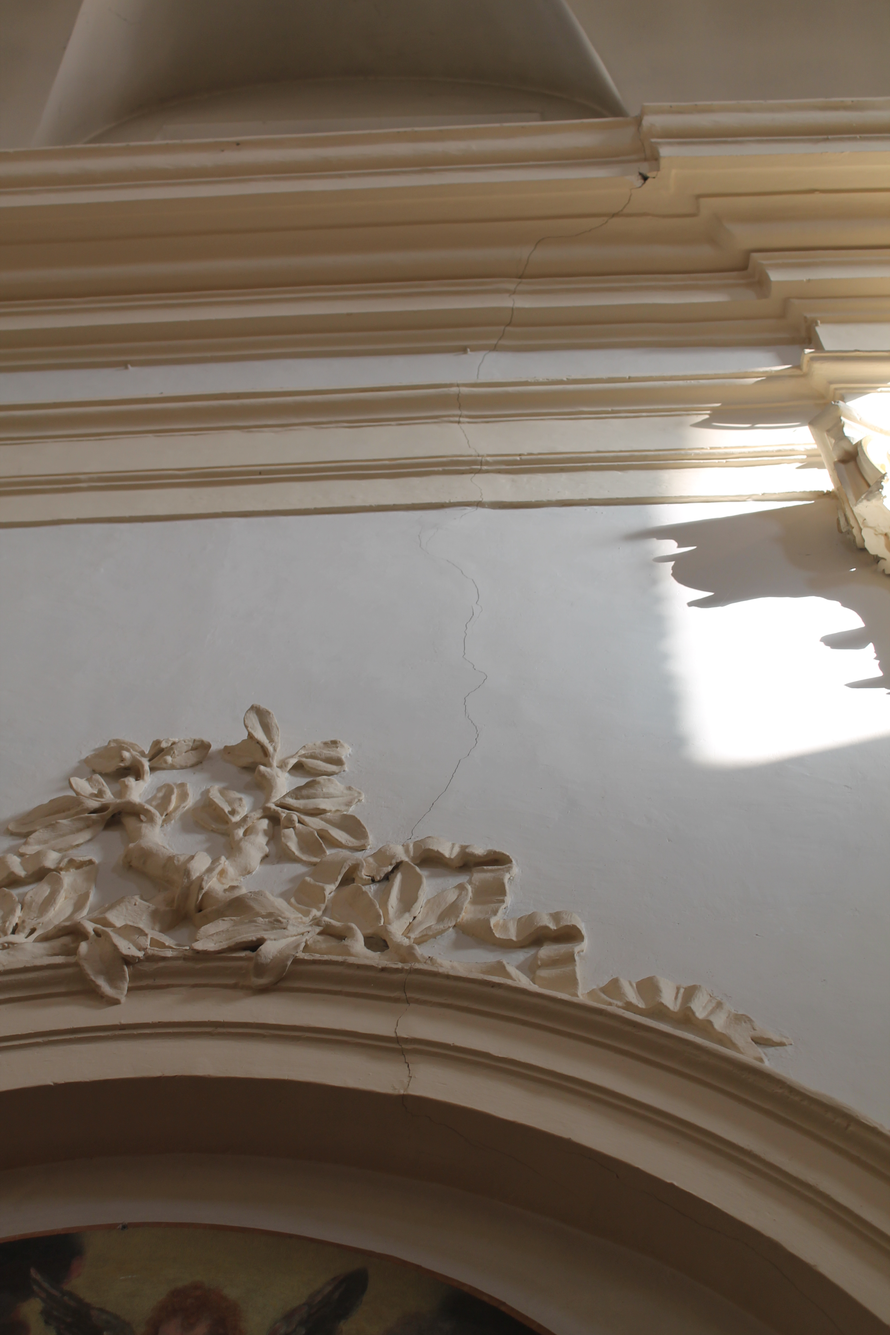Crack: (243, 130, 806, 1125)
